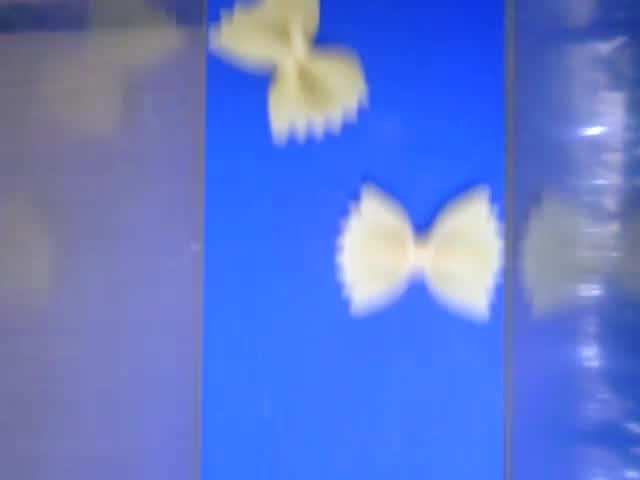farfalle: (337, 183, 503, 325), (207, 1, 369, 146)
